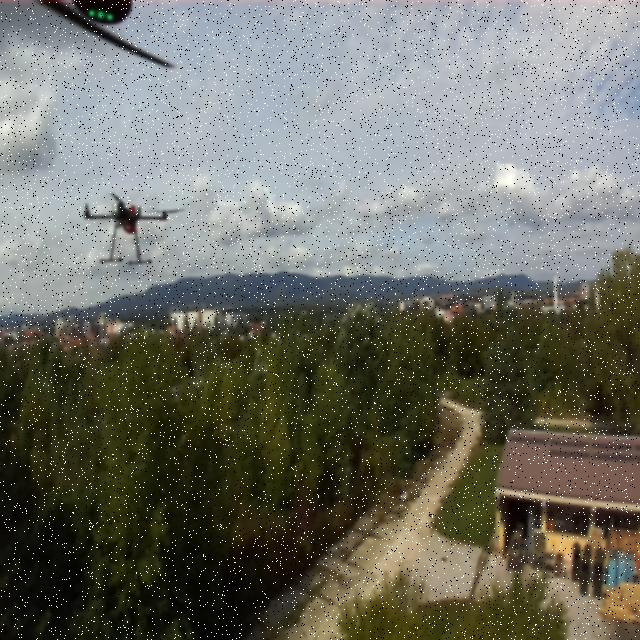UAV: (80, 190, 188, 270)
